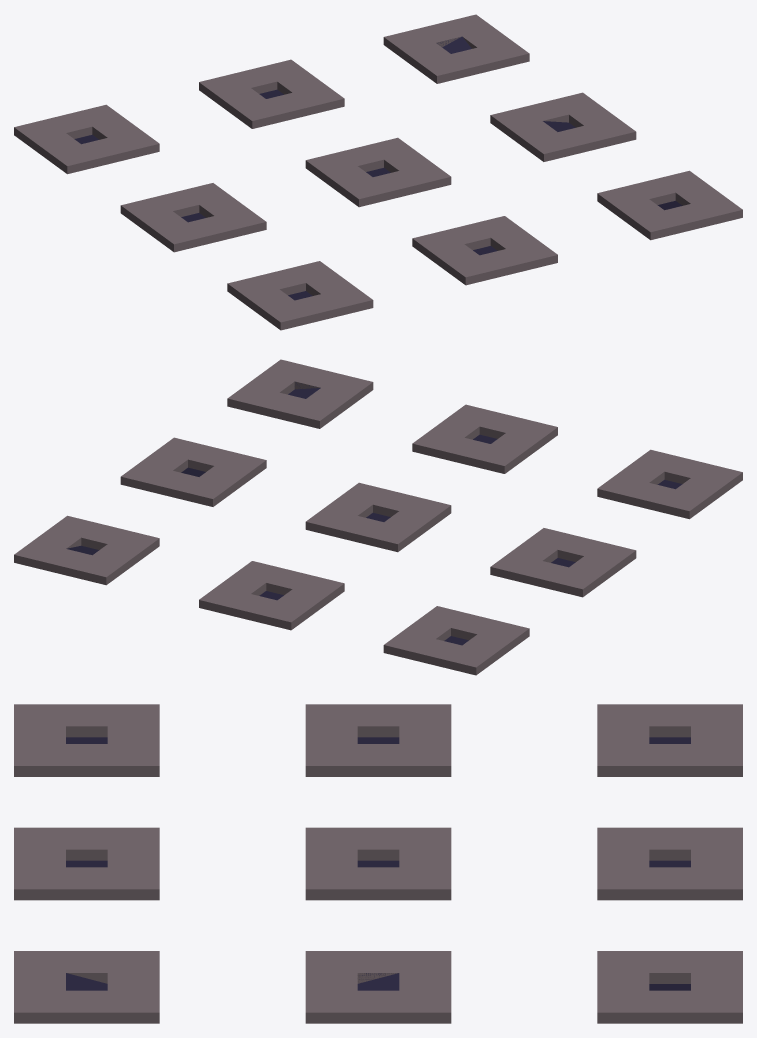
Rendered from Spike_Base.V1.fbx.
The picture shows the model from 3 angles, top to bottom: view 1: azimuth 30°, elevation 25°; view 2: azimuth 150°, elevation 25°; view 3: azimuth 270°, elevation 25°; orthographic projection. The views are drawn at different scales.
Parts seen in each view (by area): view 1: Spike_Base; view 2: Spike_Base; view 3: Spike_Base.
Boxes of the visible parts, x1,y1,x2,y2 form: Spike_Base: (14,14,742,330); Spike_Base: (14,359,742,675); Spike_Base: (14,704,742,1023).
Bounding box in the file's own units: 154 × 2.56 × 154.
